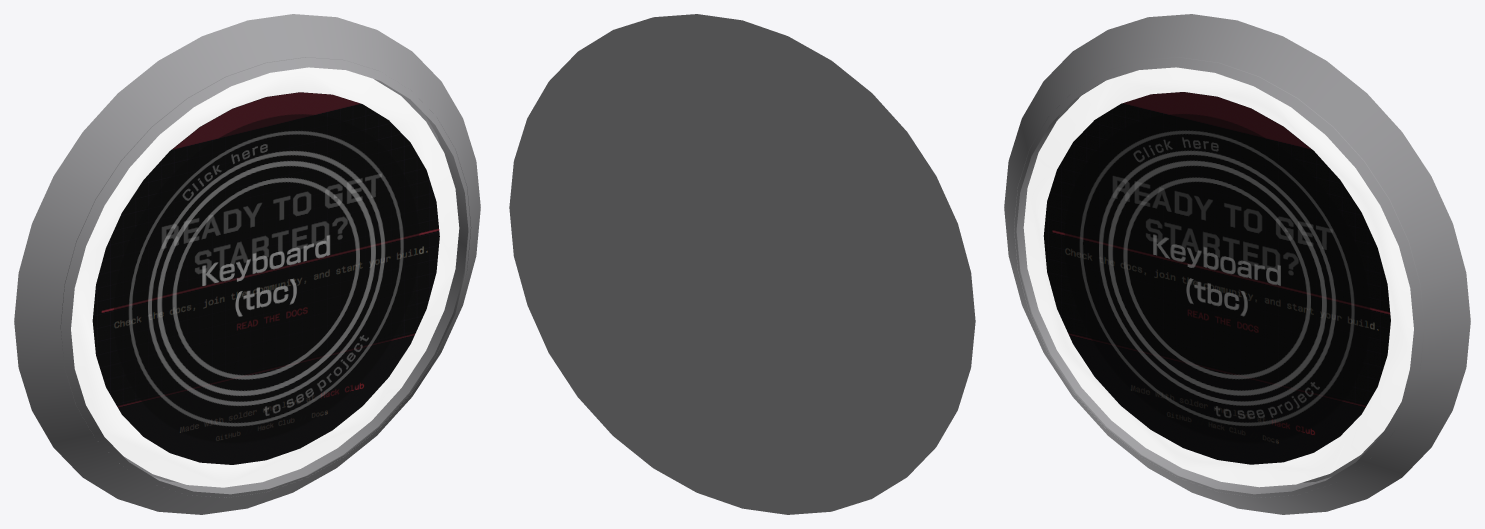
Rendered from discKeyboard.glb.
The picture shows the model from 3 angles, left to right: view 1: azimuth 30°, elevation 25°; view 2: azimuth 150°, elevation 25°; view 3: azimuth 330°, elevation 25°; orthographic projection.
Visible parts, largest first — view 1: Cylinder.001, Cylinder, Cylinder.003; view 2: Cylinder; view 3: Cylinder.001, Cylinder, Cylinder.003.
Part boxes in pixels (x1=…): Cylinder.001: x1=92, y1=92, x2=439, y2=464; Cylinder: x1=14, y1=14, x2=480, y2=514; Cylinder.003: x1=71, y1=67, x2=459, y2=487; Cylinder: x1=509, y1=14, x2=975, y2=514; Cylinder.001: x1=1043, y1=92, x2=1390, y2=464; Cylinder: x1=1004, y1=14, x2=1470, y2=514; Cylinder.003: x1=1023, y1=67, x2=1413, y2=487.
Bounding box in the file's own units: 8.07 × 8.07 × 0.6776.
3 materials, 1 textured.
